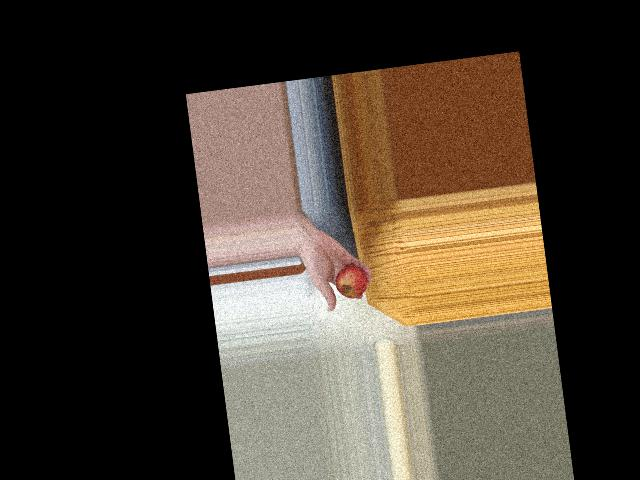apple: (332, 258, 370, 302)
